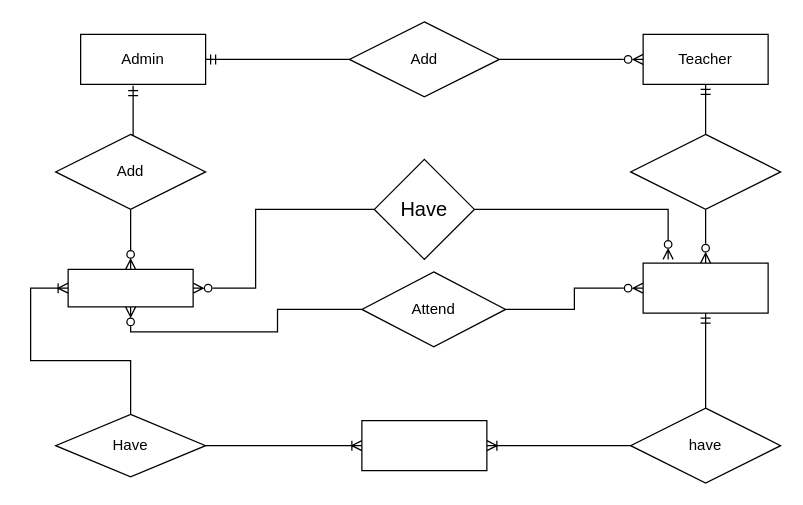
This 803x505 diagram has some shape labels left out. The shapes that lost their labels are listed below. From the top down, each one's centre as x and y in pixels, then its label:
the point at 705,171: Create
the point at 130,287: Student
the point at 705,287: Classroom
the point at 424,445: Exam
